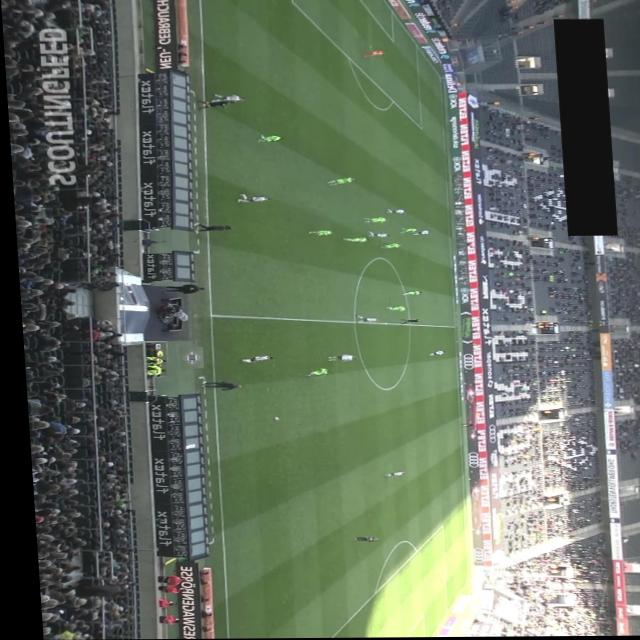goalkeeper: (360, 51, 386, 59), (345, 537, 372, 543)
player: (233, 195, 268, 203), (211, 94, 243, 102), (235, 356, 269, 363), (323, 178, 352, 186), (256, 135, 281, 144), (321, 355, 351, 362), (350, 315, 376, 323), (299, 369, 325, 377), (304, 230, 331, 236), (420, 351, 442, 358), (359, 218, 384, 224), (340, 237, 364, 243), (364, 232, 387, 238), (381, 306, 403, 312), (381, 209, 403, 215), (376, 244, 398, 250), (376, 472, 398, 478), (406, 230, 428, 236), (396, 229, 414, 235), (397, 291, 418, 296)
referee: (194, 101, 231, 111), (394, 319, 416, 325), (454, 424, 471, 428)
